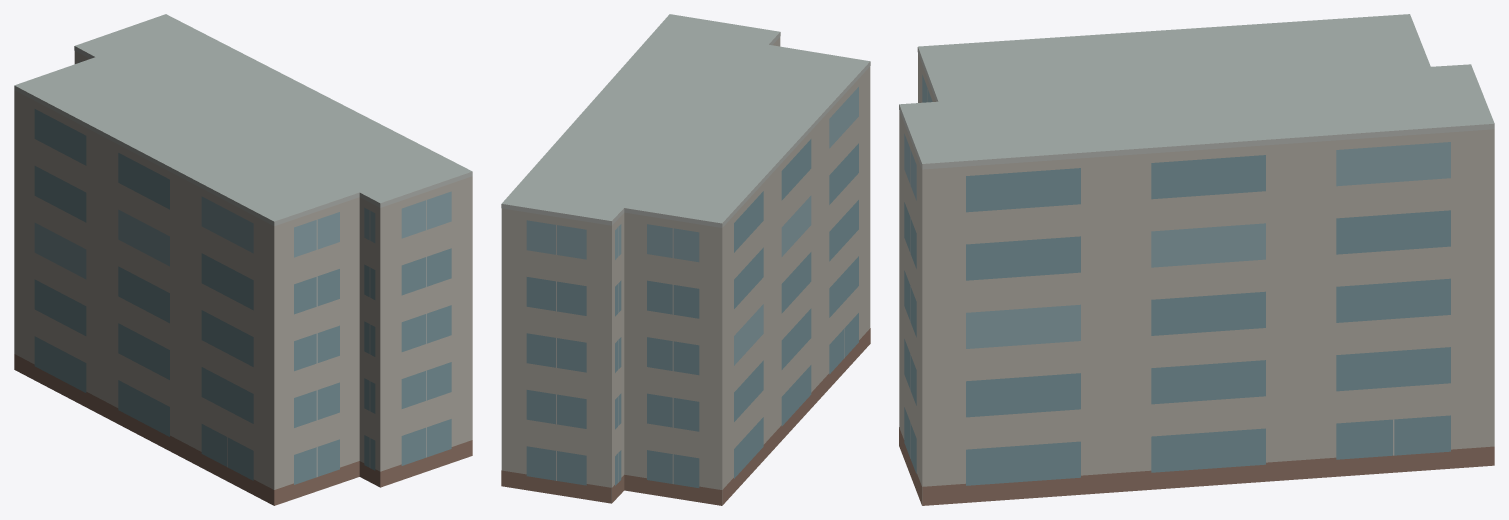
Rendered from survey-upis-33037813.glb.
The picture shows the model from 3 angles, left to right: view 1: azimuth 30°, elevation 25°; view 2: azimuth 150°, elevation 25°; view 3: azimuth 270°, elevation 25°; orthographic projection. The views are drawn at different scales.
Parts seen in each view (by area): view 1: survey-upis-33037813.tmp; view 2: survey-upis-33037813.tmp; view 3: survey-upis-33037813.tmp.
Part boxes in pixels (x1=…): survey-upis-33037813.tmp: x1=14, y1=14, x2=472, y2=505; survey-upis-33037813.tmp: x1=501, y1=14, x2=870, y2=505; survey-upis-33037813.tmp: x1=899, y1=14, x2=1494, y2=505.
Size of the model in its own units: 14.08 by 14.95 by 23.61.
